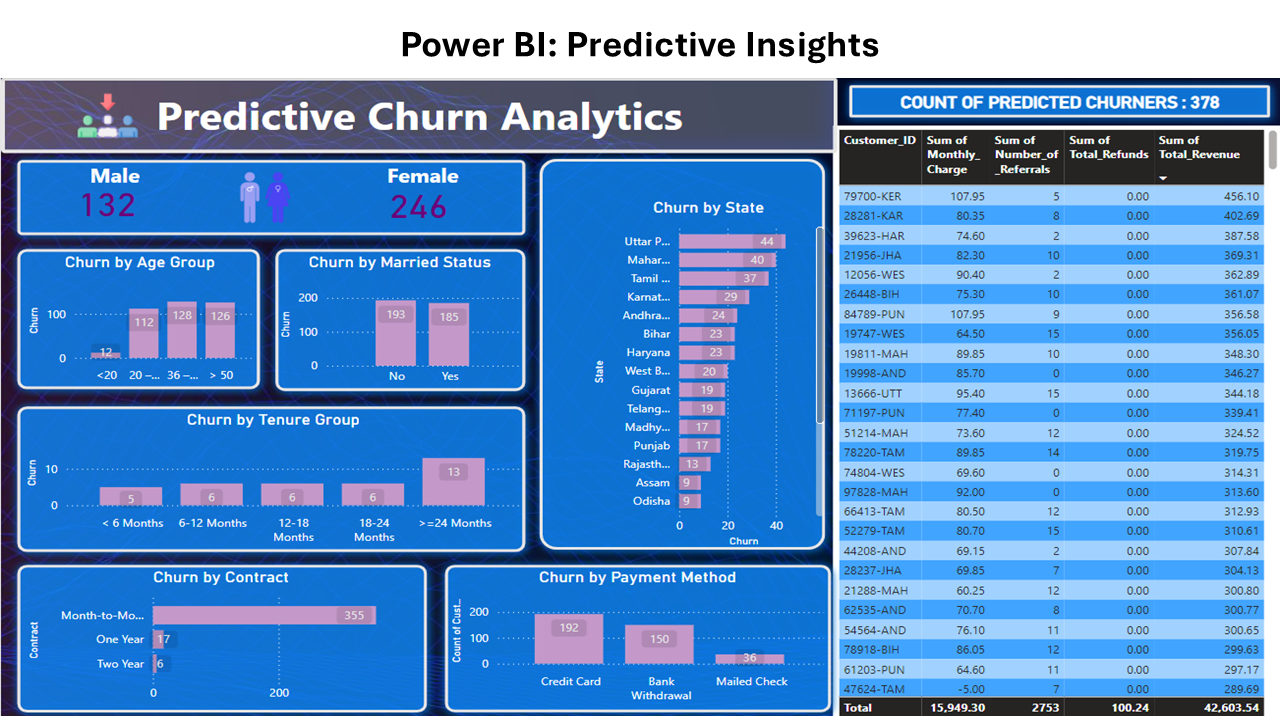

The dashboard page shown, as its layout file describes it:
{"tool":"powerbi","page":{"name":"Predicted","canvas":[1280,720],"ordinal":1},"visuals":[{"type":"tableEx","fields":{"Values":["Predictions.Customer_ID","Sum(Predictions.Monthly_Charge)","Sum(Predictions.Number_of_Referrals)","Sum(Predictions.Total_Refunds)","Sum(Predictions.Total_Revenue)"]},"box":[831.2,53.8,448.8,665],"z":0},{"type":"textbox","box":[0,0,835.6,84.7],"z":1000},{"type":"shape","box":[7.4,83.4,525.2,101.8],"z":2000},{"type":"shape","box":[7.4,182.8,260.1,174.2],"z":3000},{"type":"shape","box":[265,182.5,267.5,176.2],"z":4000},{"type":"shape","box":[7.4,358.3,525.2,180.4],"z":5000},{"type":"shape","box":[434.2,535,403.3,182.5],"z":6000},{"type":"shape","box":[7.4,535,427,182.8],"z":7000},{"type":"shape","box":[529,82,303,454],"z":8000},{"type":"card","fields":{"Values":["tbl_Measures.Count Predicted Churner"]},"box":[34.4,106.7,143.6,65],"z":9000},{"type":"card","fields":{"Values":["tbl_Measures.Count Predicted Churner"]},"box":[357.1,106.7,120.2,68.7],"z":10000},{"type":"clusteredColumnChart","fields":{"Category":["mapping_AgeGrp.Age Group"],"Y":["CountNonNull(Predictions.Customer_ID)"]},"box":[22.1,196.3,233.1,152.1],"z":11000},{"type":"clusteredColumnChart","fields":{"Y":["CountNonNull(Predictions.Customer_ID)"],"Category":["Predictions.Married"]},"box":[273.6,196.3,249.1,155.8],"z":12000},{"type":"clusteredColumnChart","fields":{"Y":["CountNonNull(mapping_TenureGrp.Tenure Group)"],"Category":["mapping_TenureGrp.Tenure Group"]},"box":[20.9,371.8,501.8,157.1],"z":13000},{"type":"clusteredColumnChart","title":"Churn by Payment Method","fields":{"Category":["Predictions.Payment_Method"],"Y":["CountNonNull(Predictions.Customer_ID)"]},"box":[444.2,547.2,382.8,158.3],"z":14000},{"type":"barChart","fields":{"Category":["Predictions.Contract"],"Y":["CountNonNull(Predictions.Customer_ID)"]},"box":[22.1,547.2,395.1,158.3],"z":15000},{"type":"shape","box":[838,0,438,54],"z":16000},{"type":"card","fields":{"Values":["tbl_Measures.Title Predicted Churners"]},"box":[878.5,11,358.3,34.4],"z":17000},{"type":"barChart","fields":{"Y":["CountNonNull(Predictions.Customer_ID)"],"Category":["Predictions.State"]},"box":[586.5,135,240.5,393.9],"z":18000},{"type":"textbox","box":[7.4,89.6,515.3,41.7],"z":19000},{"type":"image","box":[206.1,92,116.6,82.2],"z":20000},{"type":"image","box":[65.7,8.6,81.4,70],"z":21000}]}

Visuals, with their boxes in screenshot pixels (x1, y1, x2, y2), scaled from the page's 1280x720 canvas onto the 1280x720 screenshot:
tableEx - Predictions.Customer_ID x Sum(Predictions.Monthly_Charge): l=831, t=54, r=1279, b=719
textbox: l=0, t=0, r=836, b=85
shape: l=7, t=83, r=533, b=185
shape: l=7, t=183, r=268, b=357
shape: l=265, t=182, r=532, b=359
shape: l=7, t=358, r=533, b=539
shape: l=434, t=535, r=838, b=718
shape: l=7, t=535, r=434, b=718
shape: l=529, t=82, r=832, b=536
card - tbl_Measures.Count Predicted Churner: l=34, t=107, r=178, b=172
card - tbl_Measures.Count Predicted Churner: l=357, t=107, r=477, b=175
clusteredColumnChart - mapping_AgeGrp.Age Group x CountNonNull(Predictions.Customer_ID): l=22, t=196, r=255, b=348
clusteredColumnChart - CountNonNull(Predictions.Customer_ID) x Predictions.Married: l=274, t=196, r=523, b=352
clusteredColumnChart - CountNonNull(mapping_TenureGrp.Tenure Group) x mapping_TenureGrp.Tenure Group: l=21, t=372, r=523, b=529
"Churn by Payment Method" clusteredColumnChart: l=444, t=547, r=827, b=706
barChart - Predictions.Contract x CountNonNull(Predictions.Customer_ID): l=22, t=547, r=417, b=706
shape: l=838, t=0, r=1276, b=54
card - tbl_Measures.Title Predicted Churners: l=878, t=11, r=1237, b=45
barChart - CountNonNull(Predictions.Customer_ID) x Predictions.State: l=586, t=135, r=827, b=529
textbox: l=7, t=90, r=523, b=131
image: l=206, t=92, r=323, b=174
image: l=66, t=9, r=147, b=79
